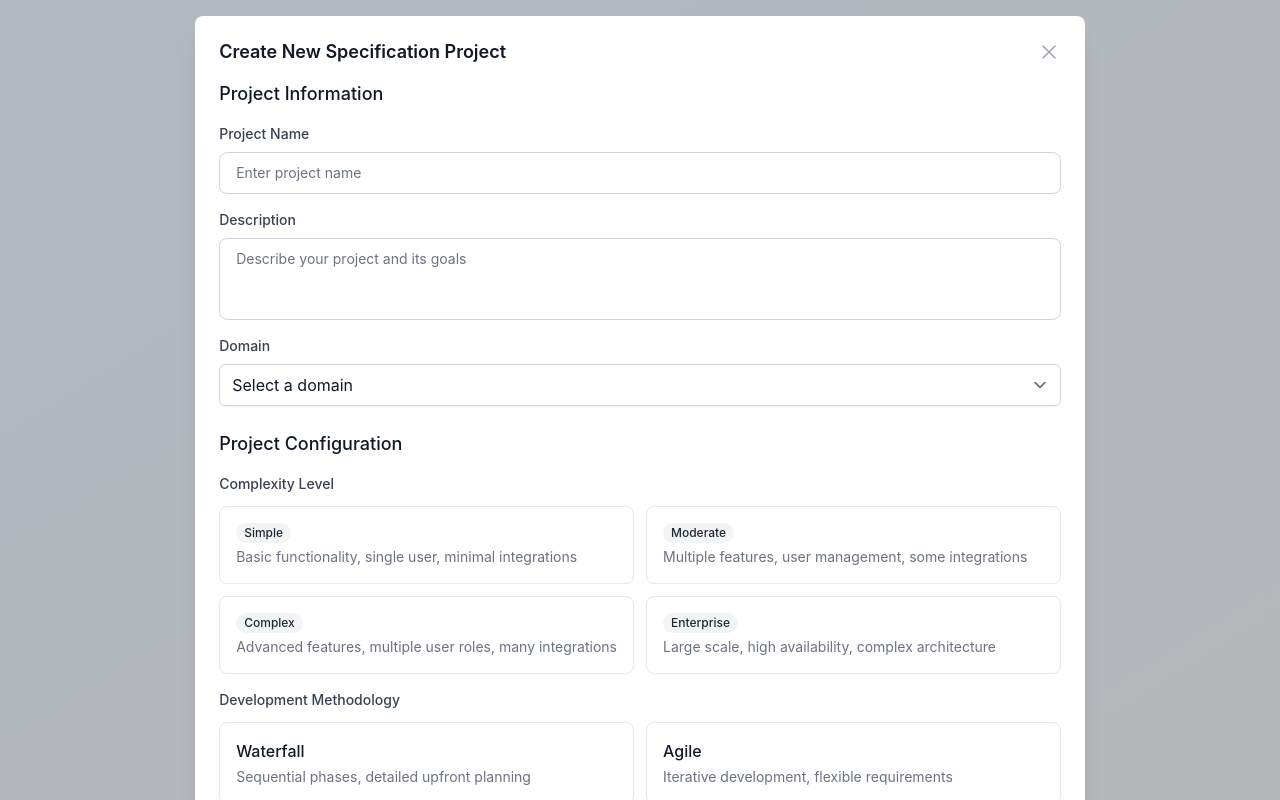
it: ProjectCreationForm › should load and display templates when domain is selected
// Select a domain
Select "Web Application" in the dropdown labelled "Domain" at x=640, y=385, box left=219, top=364, right=1061, bottom=406
(page scrolled)
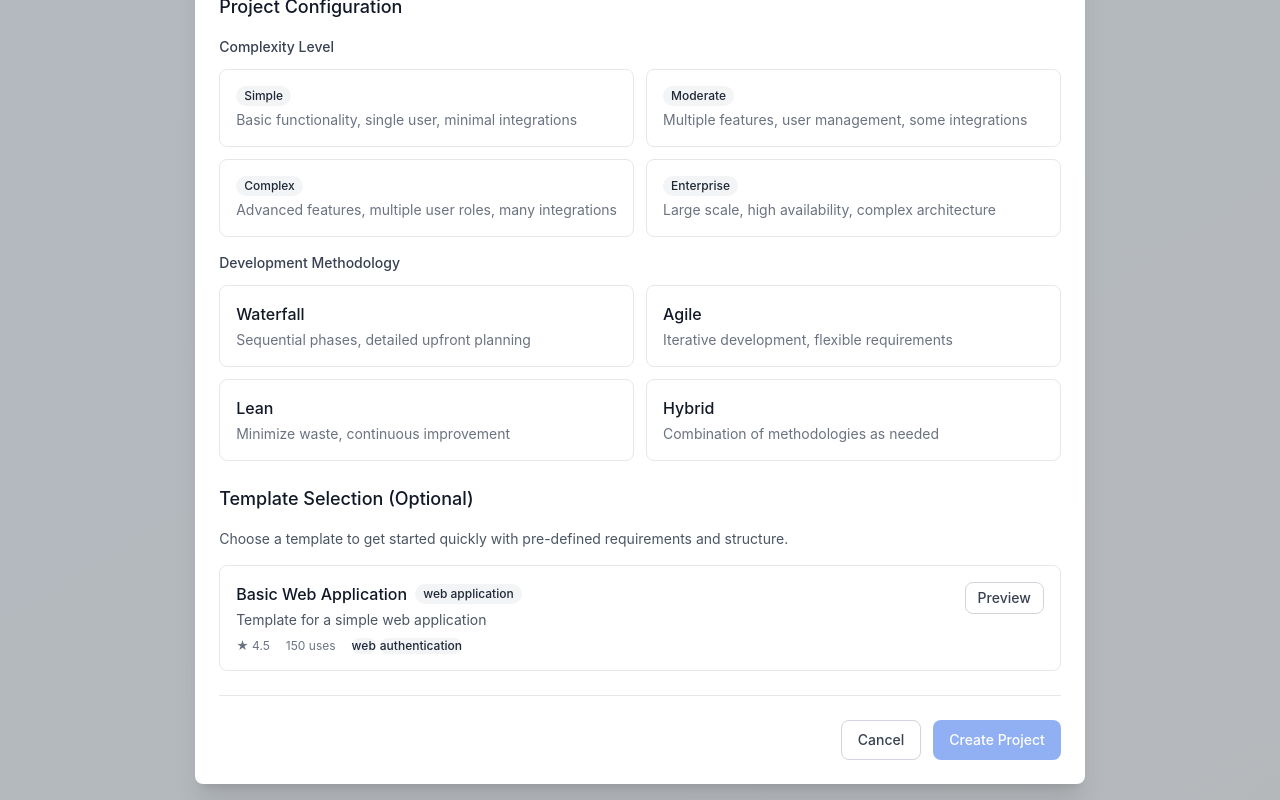
Now the heading "Template Selection (Optional)" is shown, box left=219, top=488, right=474, bottom=509
Now the heading "Basic Web Application" is shown, box left=236, top=582, right=407, bottom=606
